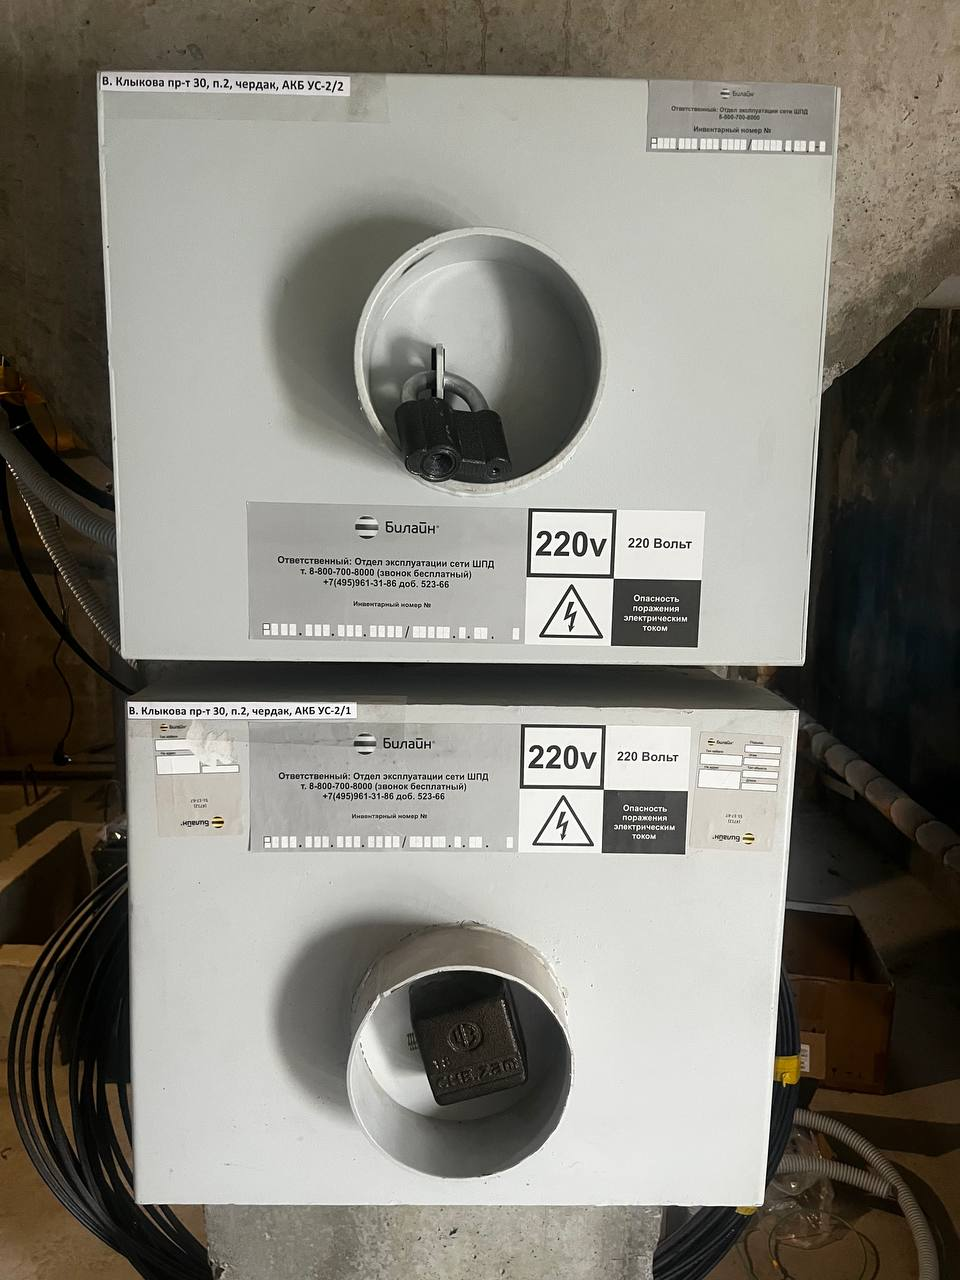shta-ps: (88, 65, 846, 673), (115, 692, 810, 1215)
